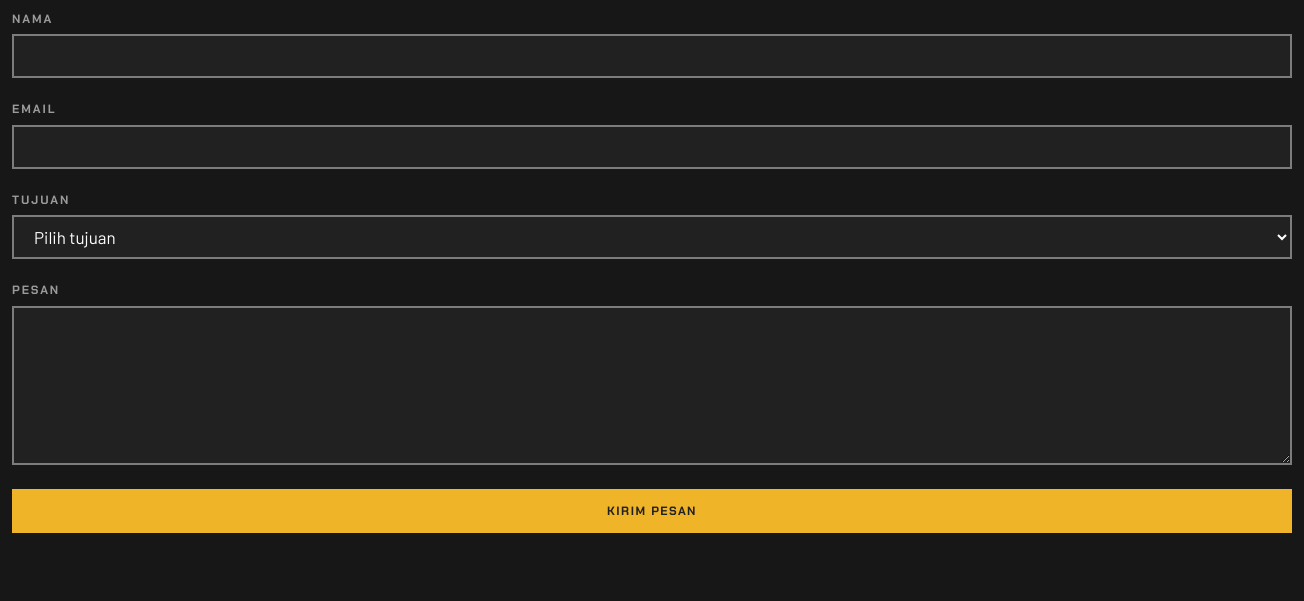
ContactForm › menampilkan status sukses setelah kirim valid
The image size is (1304, 601).
Type "Grace" into the field labelled "Nama".
click(652, 56); type("Grace")  # box [12,34,1292,78]
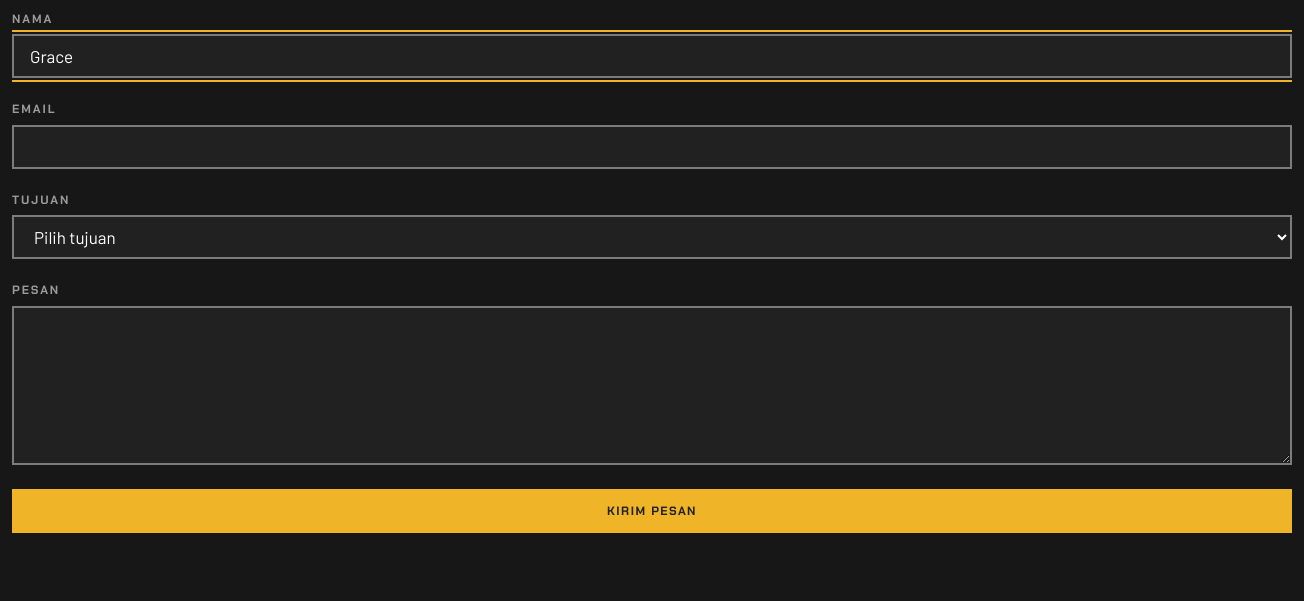
Type "grace@example.com" into the field labelled "Email".
click(652, 147); type("grace@example.com")  # box [12,125,1292,169]
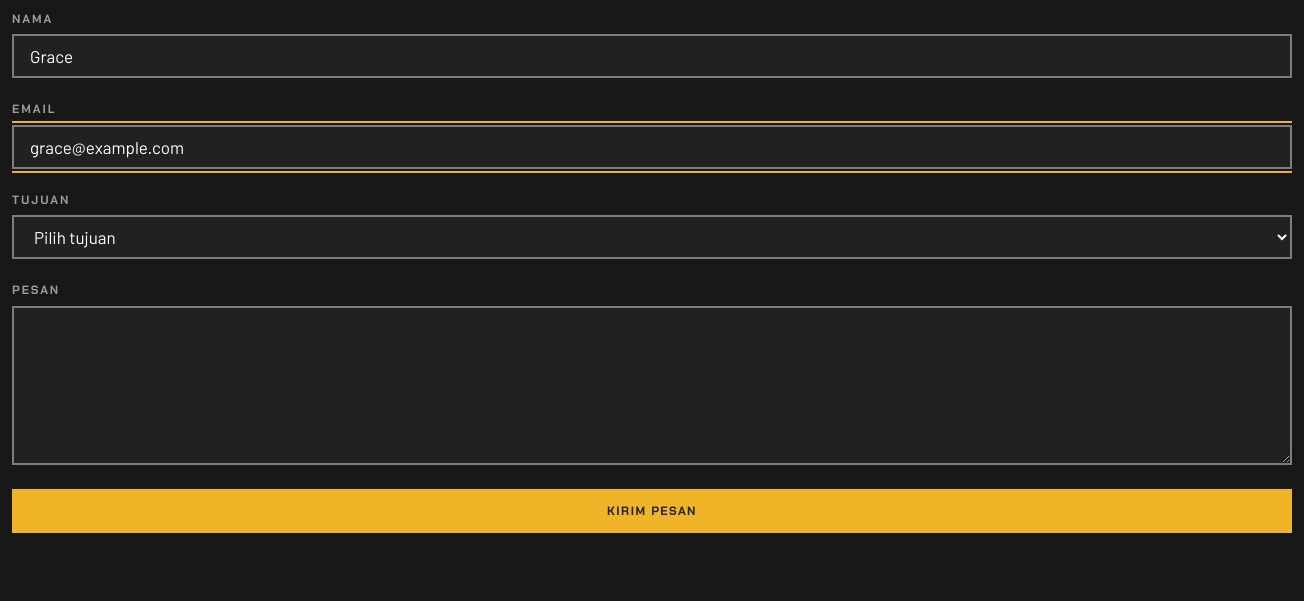
Select "Media dan pers" in the dropdown labelled "Tujuan" at (652, 237), box [12,215,1292,259]
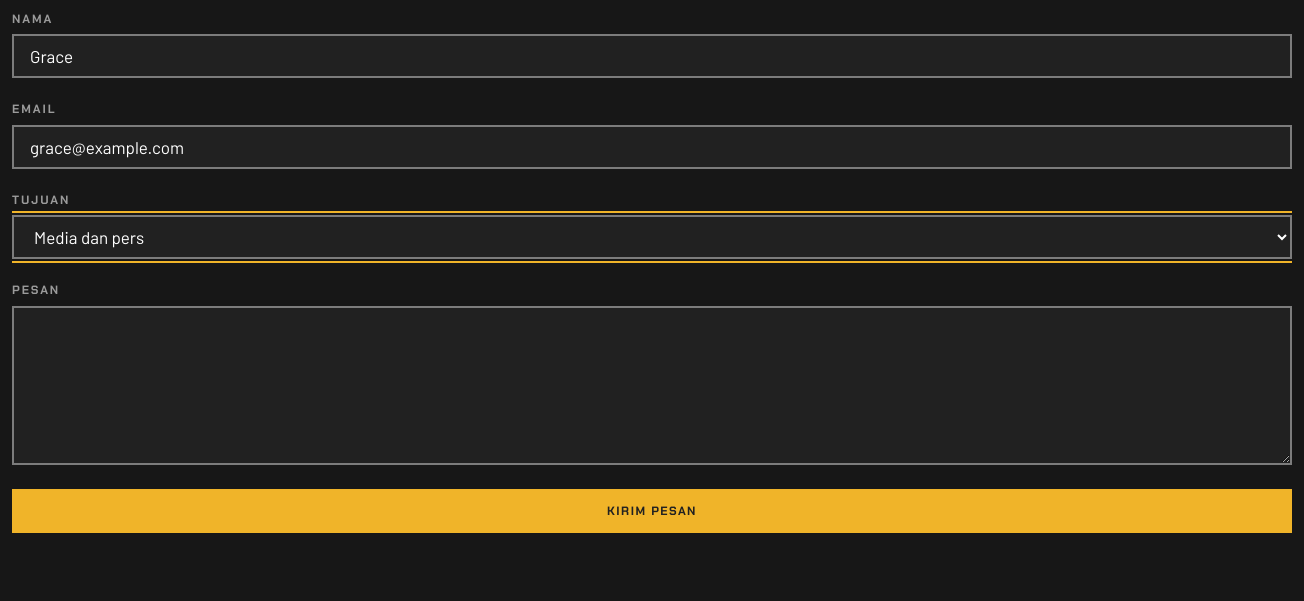
Type "Minta kutipan untuk liputan PMSL." into the text box labelled "Pesan".
click(652, 385); type("Minta kutipan untuk liputan PMSL.")  # box [12,306,1292,465]
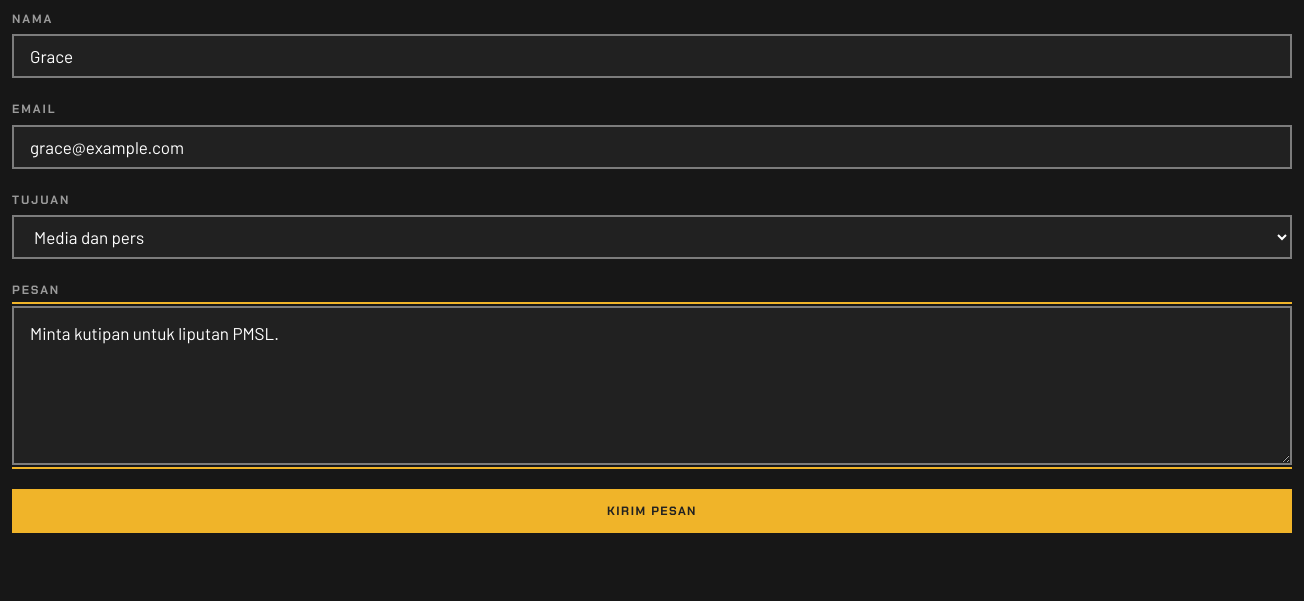
Click the button "Kirim pesan".
click(652, 511)  # box [12,489,1292,533]
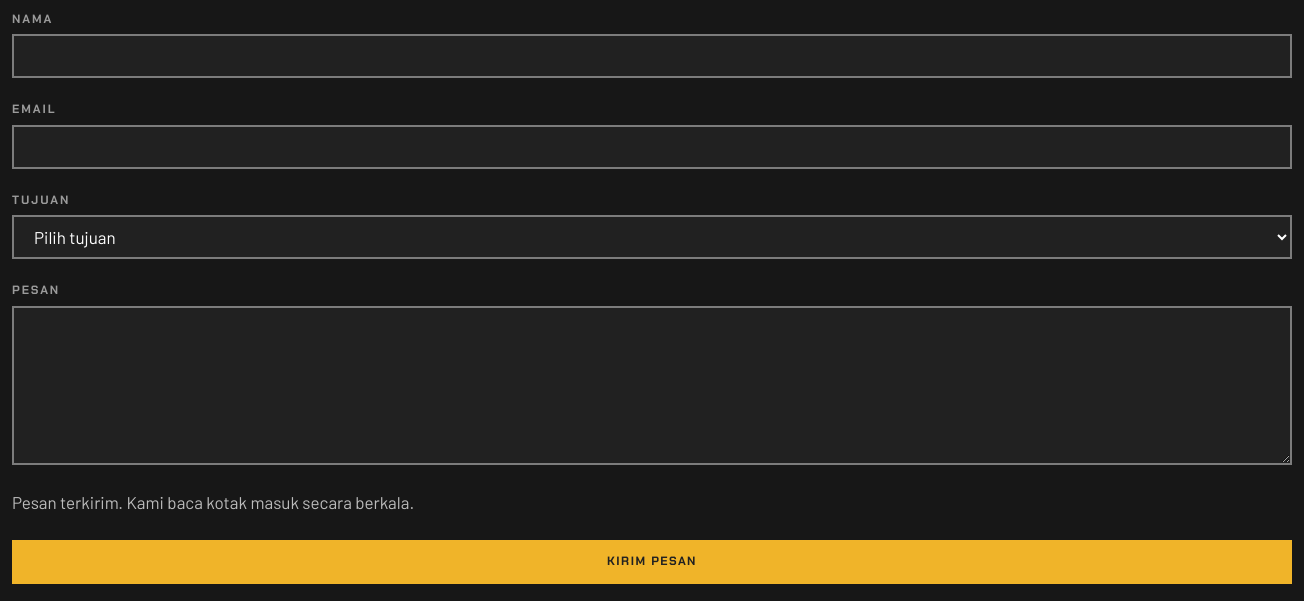
Expected: the message reads "Pesan terkirim. Kami baca kotak masuk secara berkala.", [12,492,414,512]
